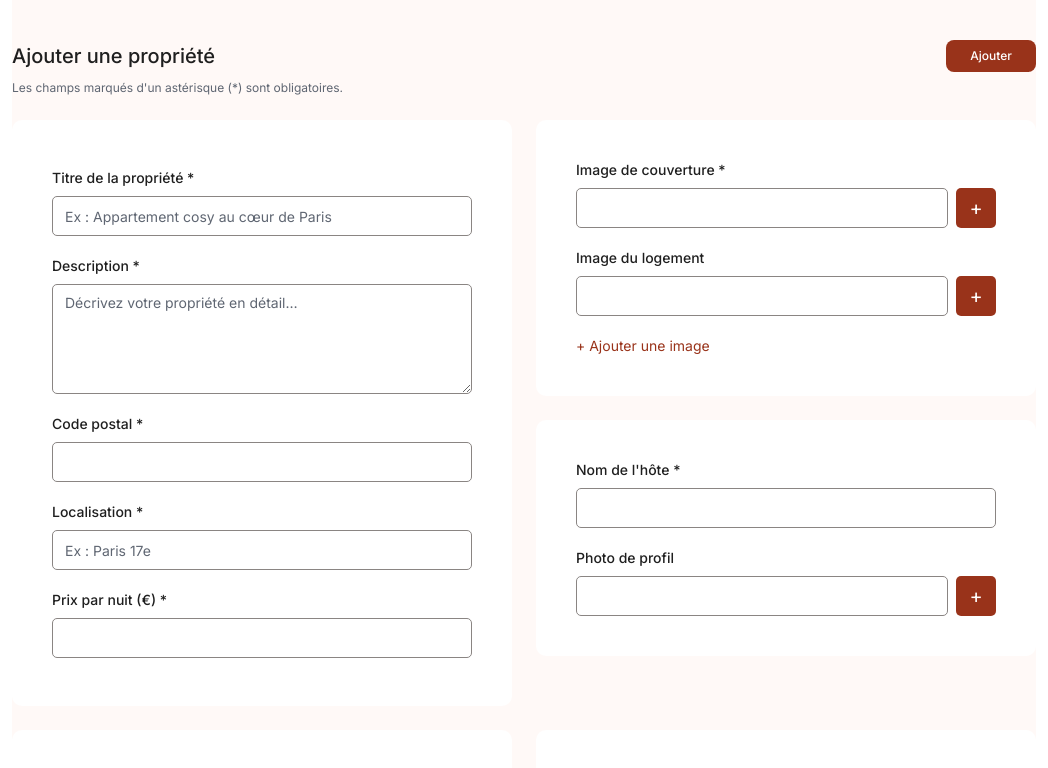
Test: PropertyForm › ajoute un nouveau champ image avec le bouton « + Ajouter une image »
Click the button "+ Ajouter une image" at [643, 346], box [576,336,710,356]
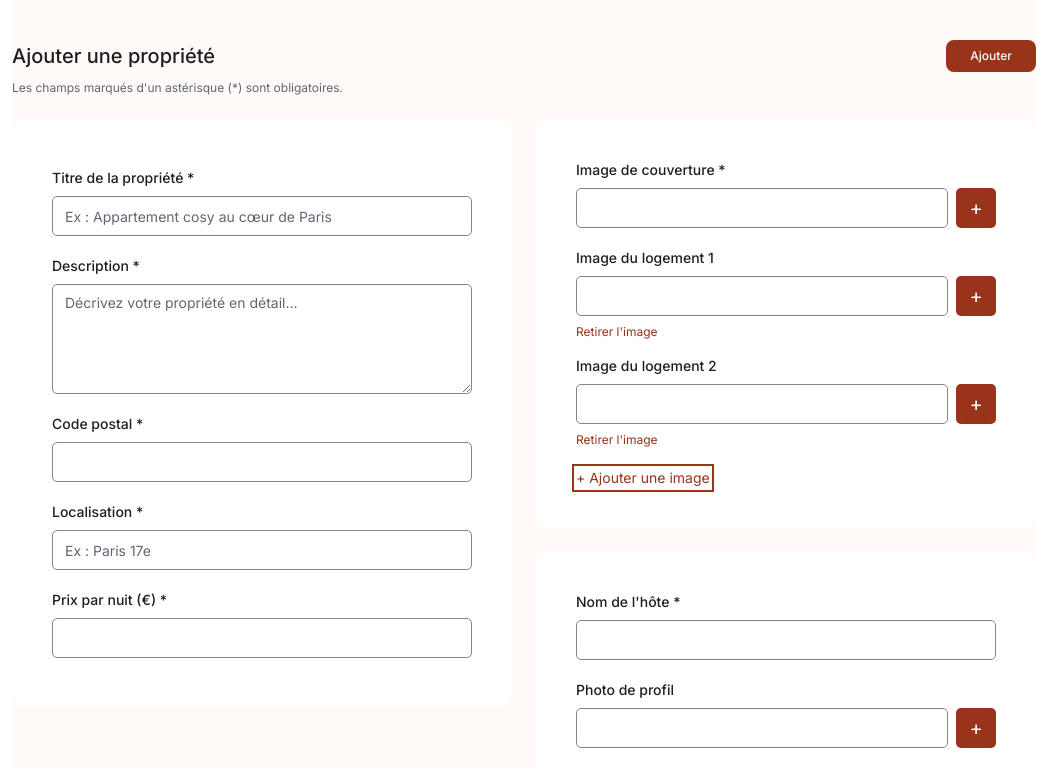
Check: the field labelled "Image du logement 1" is shown, box [576,276,948,316]
Check: the field labelled "Image du logement 2" is shown, box [576,384,948,424]
Click the button named "Retirer l'image : Image du logement 2" at [617, 440], box [576,432,658,448]
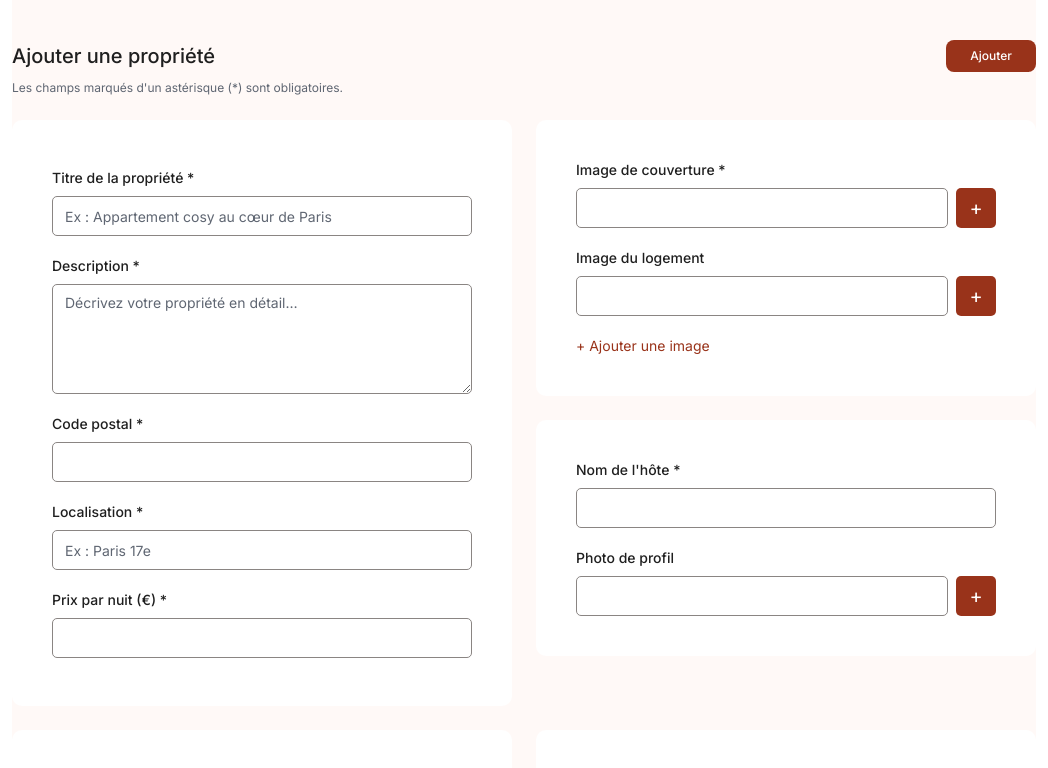
Check: the label labelled "Image du logement 2" is gone
